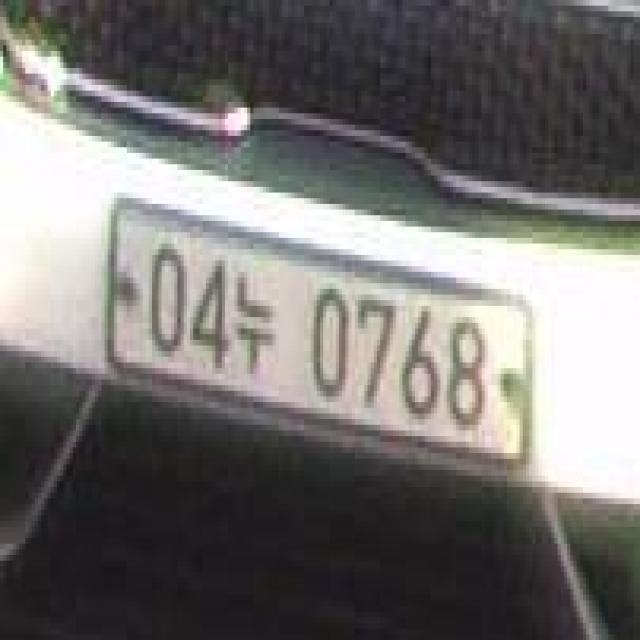illegal_plate: (103, 185, 540, 496)
